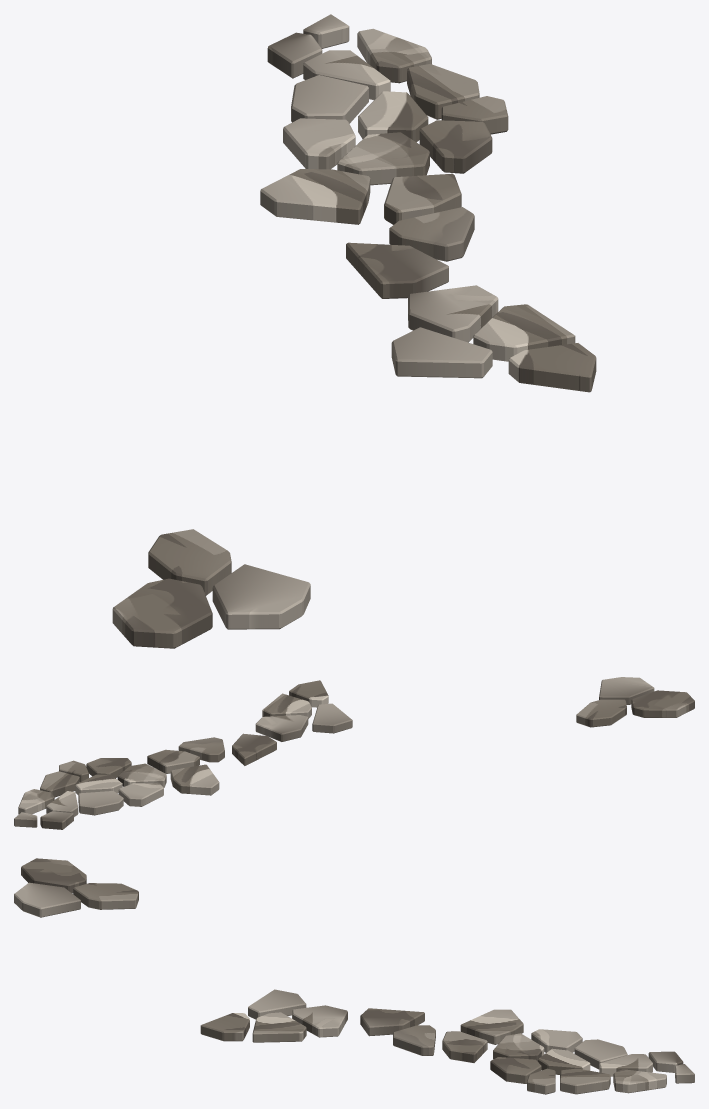
The model's file is Static_Rocks.FBX.
The picture shows the model from 3 angles, top to bottom: view 1: azimuth 30°, elevation 25°; view 2: azimuth 150°, elevation 25°; view 3: azimuth 270°, elevation 25°; orthographic projection. The views are drawn at different scales.
Parts seen in each view (by area): view 1: Rocks10, Rocks09, Rocks20, Rocks17, Rocks02, Rocks16, Rocks06, Rocks15, Rocks21, Rocks14, Rocks18, Rocks28 (+10 smaller); view 2: Rocks10, Rocks20, Rocks06, Rocks16, Rocks09, Rocks17, Rocks24, Rocks02, Rocks19, Rocks22, Rocks15, Rocks18 (+10 smaller); view 3: Rocks09, Rocks10, Rocks06, Rocks20, Rocks17, Rocks15, Rocks16, Rocks19, Rocks01, Rocks14, Rocks02, Rocks18 (+9 smaller).
Part boxes in pixels (x1,y1,x2,y2): Rocks10: (112,578,212,648); Rocks09: (212,564,310,629); Rocks20: (260,169,370,224); Rocks17: (346,242,448,298); Rocks02: (391,327,492,378); Rocks16: (408,285,498,342); Rocks06: (148,529,231,595); Rocks15: (473,304,575,361); Rocks21: (337,132,429,185); Rocks14: (508,343,596,392); Rocks18: (389,207,474,261); Rocks28: (419,120,492,173); Rocks10: (631,690,694,717); Rocks20: (170,764,219,795); Rocks06: (576,699,626,727); Rocks16: (255,715,308,741); Rocks09: (599,677,654,704); Rocks17: (232,733,276,765); Rocks24: (78,791,123,815); Rocks02: (312,703,352,733); Rocks19: (147,749,199,773); Rocks22: (118,783,163,806); Rocks15: (262,693,311,718); Rocks18: (178,737,224,762); Rocks09: (14,882,80,917); Rocks10: (21,858,86,893); Rocks06: (73,883,138,909); Rocks20: (460,1009,523,1044); Rocks17: (360,1008,424,1036); Rocks15: (252,1012,306,1042); Rocks16: (292,1005,347,1037); Rocks19: (442,1031,487,1062); Rocks01: (560,1068,610,1094); Rocks14: (200,1013,249,1041); Rocks02: (248,989,306,1019); Rocks18: (393,1025,435,1055).
Size of the model in its own units: 496 by 10 by 628.
Materials: 1 (1 with a texture image).
